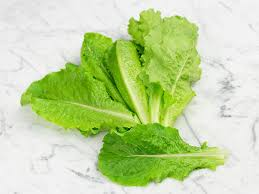lettuce: (21, 8, 198, 131), (97, 117, 232, 194)
